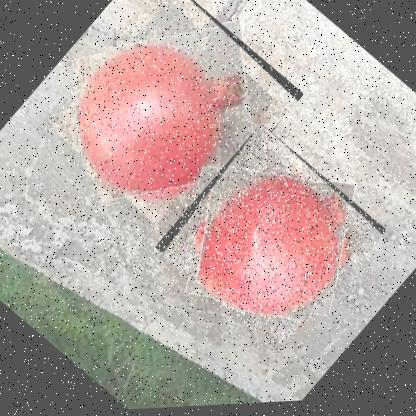pomegranate: (32, 0, 304, 257), (152, 120, 386, 362)
